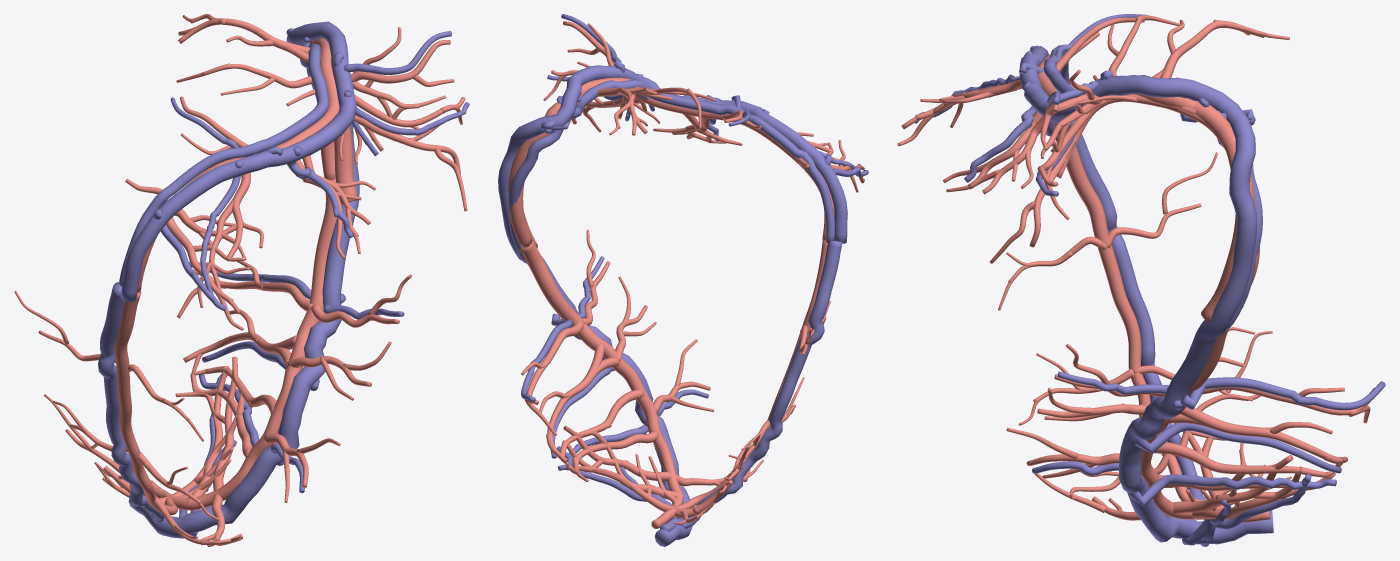
The model's file is vessels_25.glb.
The picture shows the model from 3 angles, left to right: view 1: azimuth 30°, elevation 25°; view 2: azimuth 150°, elevation 25°; view 3: azimuth 270°, elevation 25°; orthographic projection. The views are drawn at different scales.
Visible parts, largest first — view 1: Renderer Node; view 2: Renderer Node; view 3: Renderer Node.
Part boxes in pixels (x1,y1,x2,y2): Renderer Node: (14, 14, 469, 546); Renderer Node: (498, 14, 868, 546); Renderer Node: (897, 14, 1385, 546).
Bounding box in the file's own units: 93.79 × 120 × 94.12.
